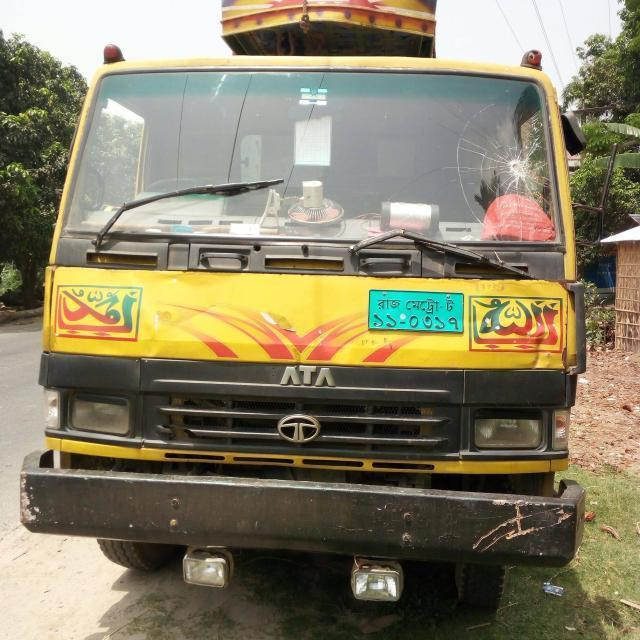numberplate: (367, 288, 464, 333)
